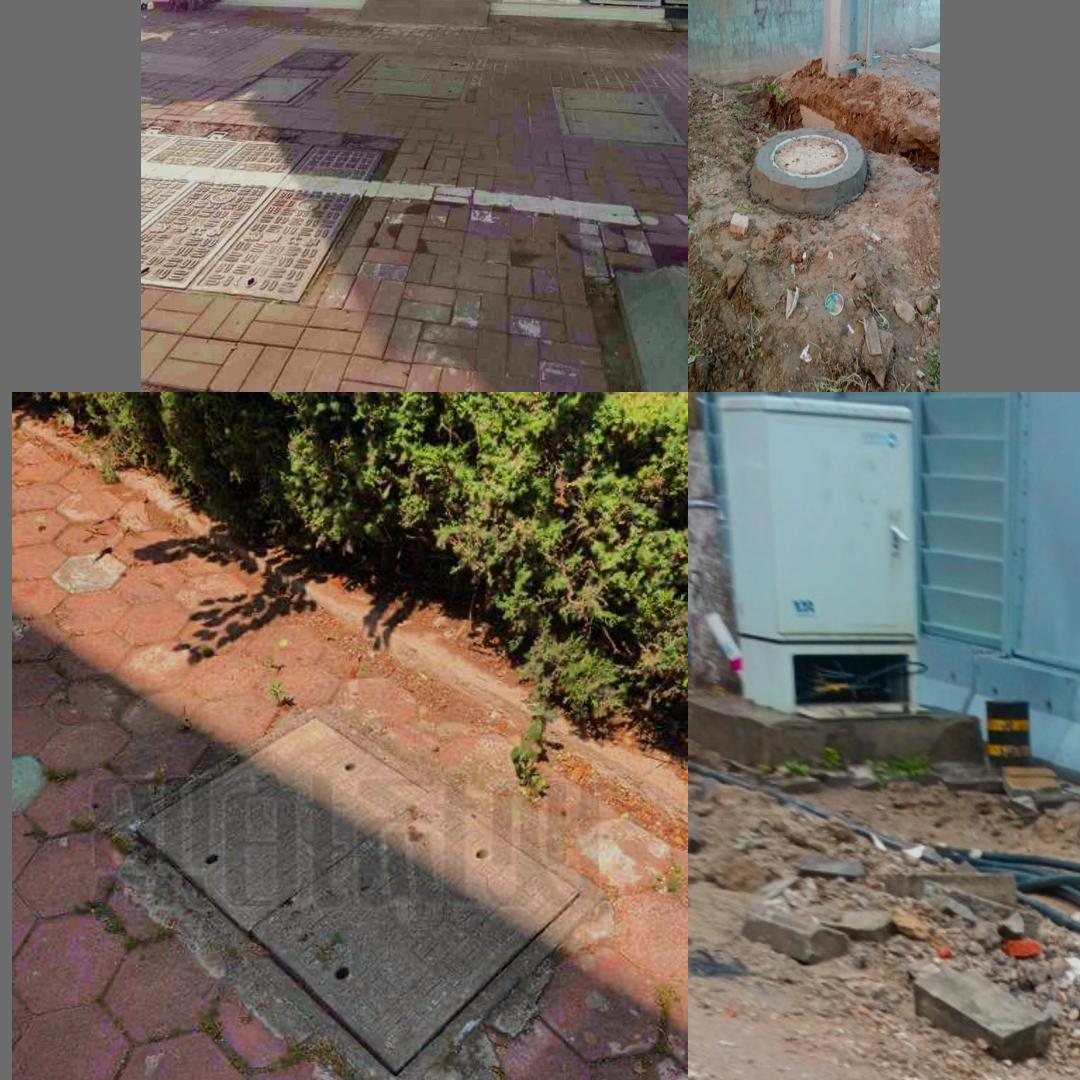good: (110, 706, 606, 1080), (141, 125, 399, 302), (333, 49, 479, 101), (553, 86, 687, 141), (770, 133, 848, 177)
